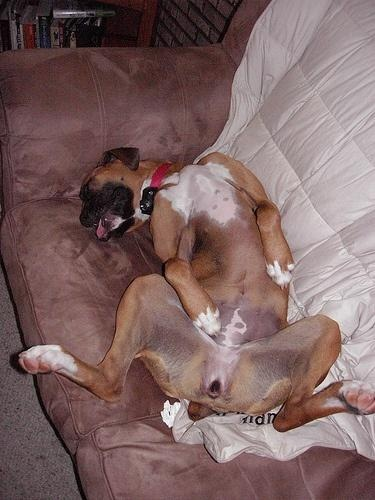dog: (22, 143, 374, 429)
sofa: (2, 2, 375, 500)
